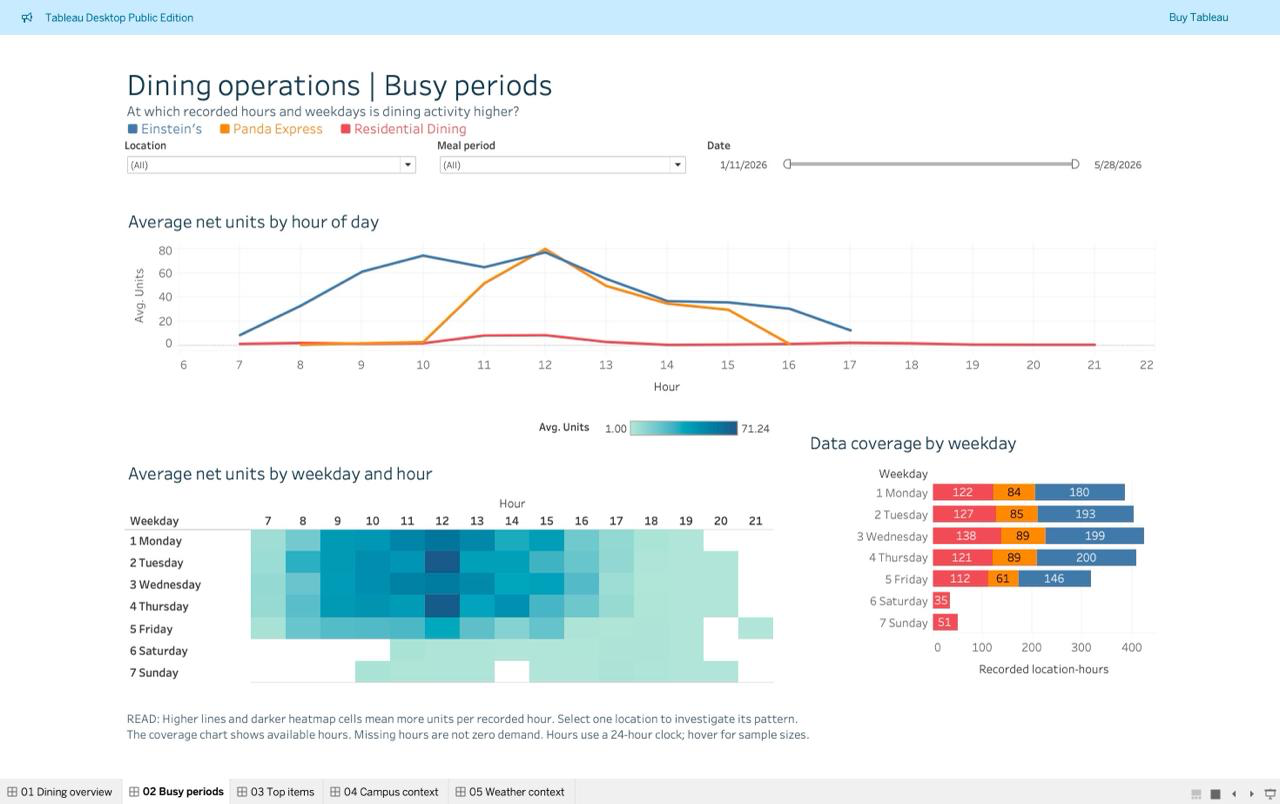

This screenshot's page, from the dashboard's own definition file:
{"tool":"tableau","page":{"name":"02 Busy periods","canvas":[1200,780],"ordinal":1},"visuals":[{"type":"text","box":[24.4,9.2,1151.3,40.4]},{"type":"text","box":[24.4,49.6,1151.3,19.3]},{"type":"text","box":[24.4,68.8,1151.3,19.3]},{"type":"filter","title":"02 Hourly profile","param":"[federated.servesmart_hourly].[none:Location:nk]","box":[24.4,89,328.1,53.2]},{"type":"filter","title":"02 Hourly profile","param":"[federated.servesmart_hourly].[none:DayPart:nk]","box":[373.1,89,281.3,53.2]},{"type":"filter","title":"02 Hourly profile","param":"[federated.servesmart_hourly].[none:Date:qk]","box":[675,89,500.6,53.2]},{"type":"worksheet","title":"02 Hourly profile","mark":"Line","rows":["Units"],"cols":["Hour"],"box":[16.9,157.8,1166.3,234]},{"type":"legend","title":"02 Weekday hour","param":"[federated.servesmart_hourly].[avg:Units:qk]","box":[487.5,403.8,262.5,34.9]},{"type":"worksheet","title":"02 Coverage","mark":"Bar","rows":["WeekdayLabel"],"cols":["ObservedHours"],"box":[778.1,406.5,405,302.8]},{"type":"worksheet","title":"02 Weekday hour","mark":"Square","rows":["WeekdayLabel"],"cols":["Hour"],"box":[16.9,440.5,740.6,268.9]},{"type":"text","box":[24.4,727.7,1151.3,45]}]}

Visuals, with their boxes on the page's 1200x780 design canvas (x1, y1, x2, y2). These are canvas units, not pixel positions in the 1280x804 screenshot, which may show the page scaled, cropped or inside an application window:
text: crop(24, 9, 1176, 50)
text: crop(24, 50, 1176, 69)
text: crop(24, 69, 1176, 88)
"02 Hourly profile" filter: crop(24, 89, 352, 142)
"02 Hourly profile" filter: crop(373, 89, 654, 142)
"02 Hourly profile" filter: crop(675, 89, 1176, 142)
"02 Hourly profile" worksheet (Line marks): crop(17, 158, 1183, 392)
"02 Weekday hour" legend: crop(488, 404, 750, 439)
"02 Coverage" worksheet (Bar marks): crop(778, 406, 1183, 709)
"02 Weekday hour" worksheet (Square marks): crop(17, 440, 758, 709)
text: crop(24, 728, 1176, 773)
